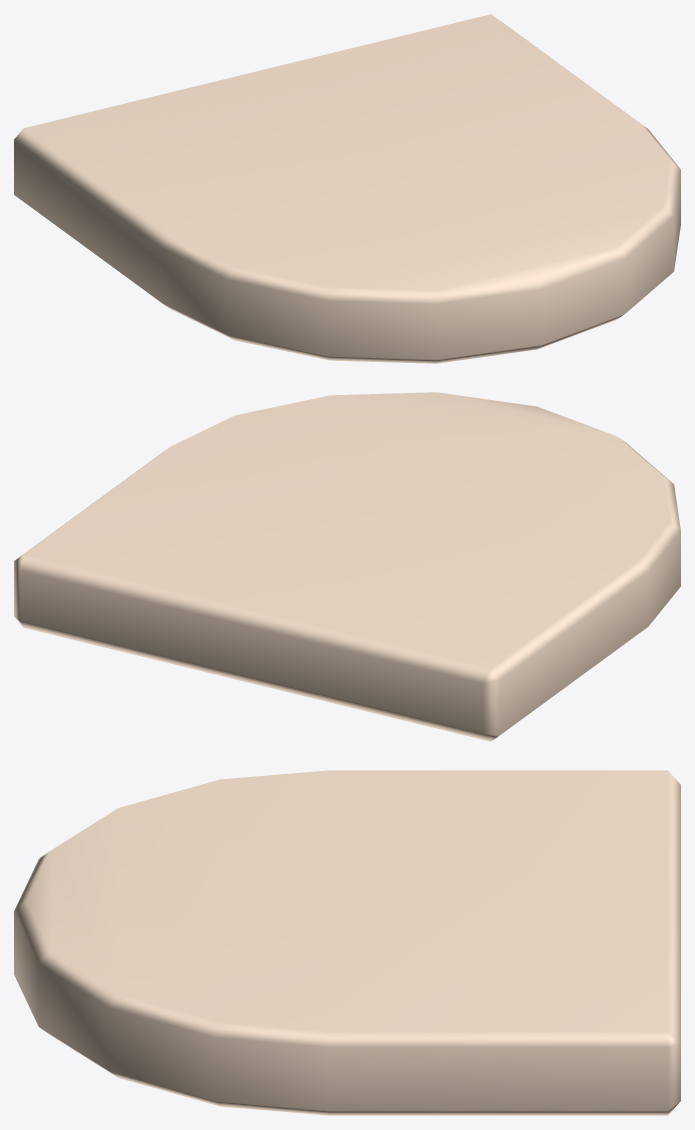
File: Furniture_Bathroom_3_1.fbx
3 views of the same model, one above another, from view 1: azimuth 30°, elevation 25°; view 2: azimuth 150°, elevation 25°; view 3: azimuth 270°, elevation 25° (orthographic). The views are drawn at different scales.
Visible parts, largest first — view 1: Furniture_Bathroom_3_1; view 2: Furniture_Bathroom_3_1; view 3: Furniture_Bathroom_3_1.
Boxes of the visible parts, bbox=[...] form: Furniture_Bathroom_3_1: bbox=[14, 14, 680, 363]; Furniture_Bathroom_3_1: bbox=[14, 392, 680, 741]; Furniture_Bathroom_3_1: bbox=[14, 770, 680, 1115].
Bounding box in the file's own units: 83.3 × 11.99 × 86.34.
